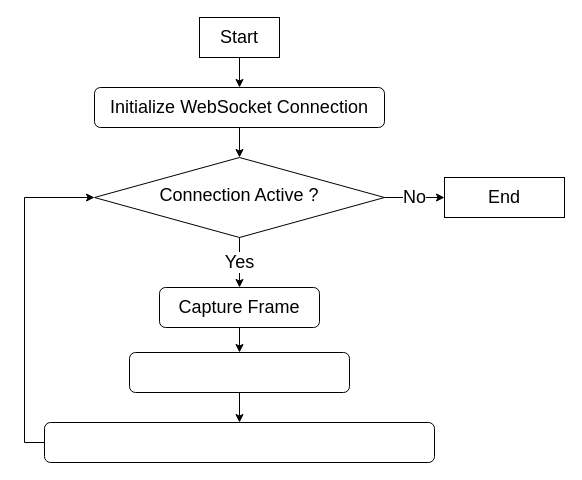
The diagram is 582 pixels wide and 480 high, and some of its shapes have lost their labels. Here are the shapes that lost their labels. From the top down, the centre of each, then its label:
the point at 239,372: Convert Frame to Bytes
the point at 239,442: Send Bytes over Websocket to Vision System
